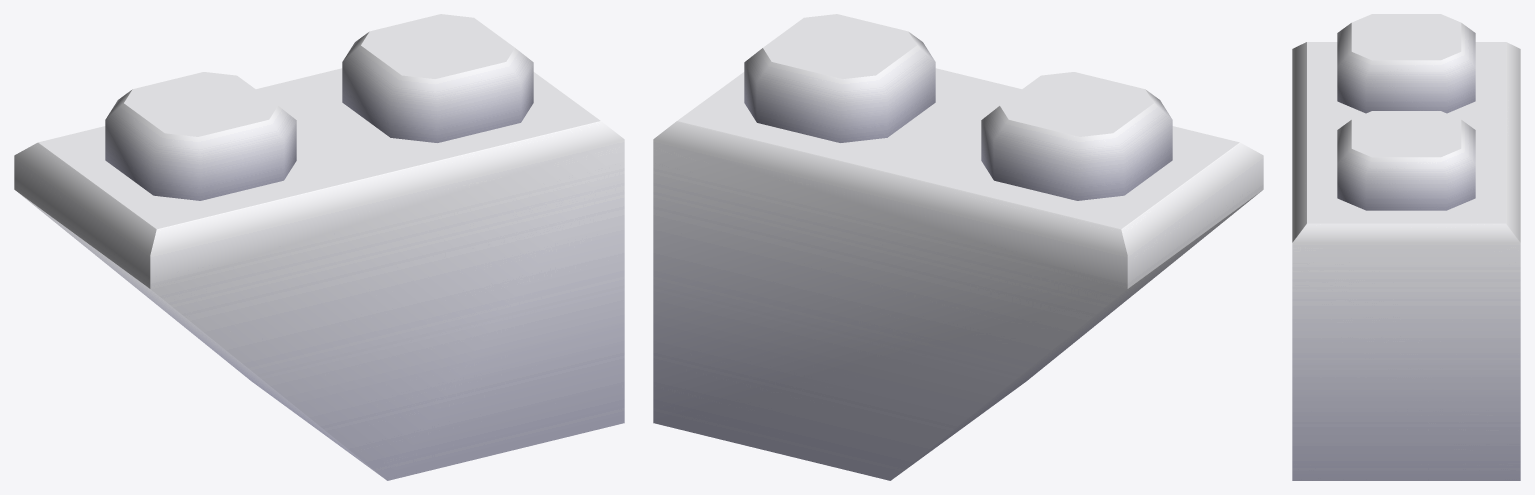
File: bevel_hq_brick_slope_inverted_1x2.glb
3 renders of one model, left to right at view 1: azimuth 30°, elevation 25°; view 2: azimuth 150°, elevation 25°; view 3: azimuth 270°, elevation 25°, orthographic. The views are drawn at different scales.
Visible parts, largest first — view 1: bevel-hq-brick-slope-inverted-1x2; view 2: bevel-hq-brick-slope-inverted-1x2; view 3: bevel-hq-brick-slope-inverted-1x2.
Part boxes in pixels (<box>): bevel-hq-brick-slope-inverted-1x2: <box>14,14,624,480</box>; bevel-hq-brick-slope-inverted-1x2: <box>653,14,1263,480</box>; bevel-hq-brick-slope-inverted-1x2: <box>1292,14,1520,480</box>.
Size of the model in its own units: 0.159 by 0.114 by 0.079.
Materials: 1 (1 with a texture image).
